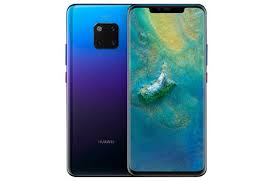huawei: (64, 1, 126, 181)
